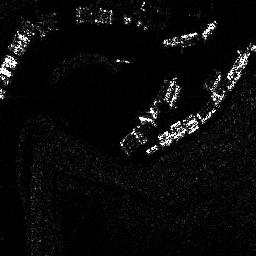ship: (162, 30, 199, 46), (201, 19, 218, 40), (164, 76, 177, 102)
